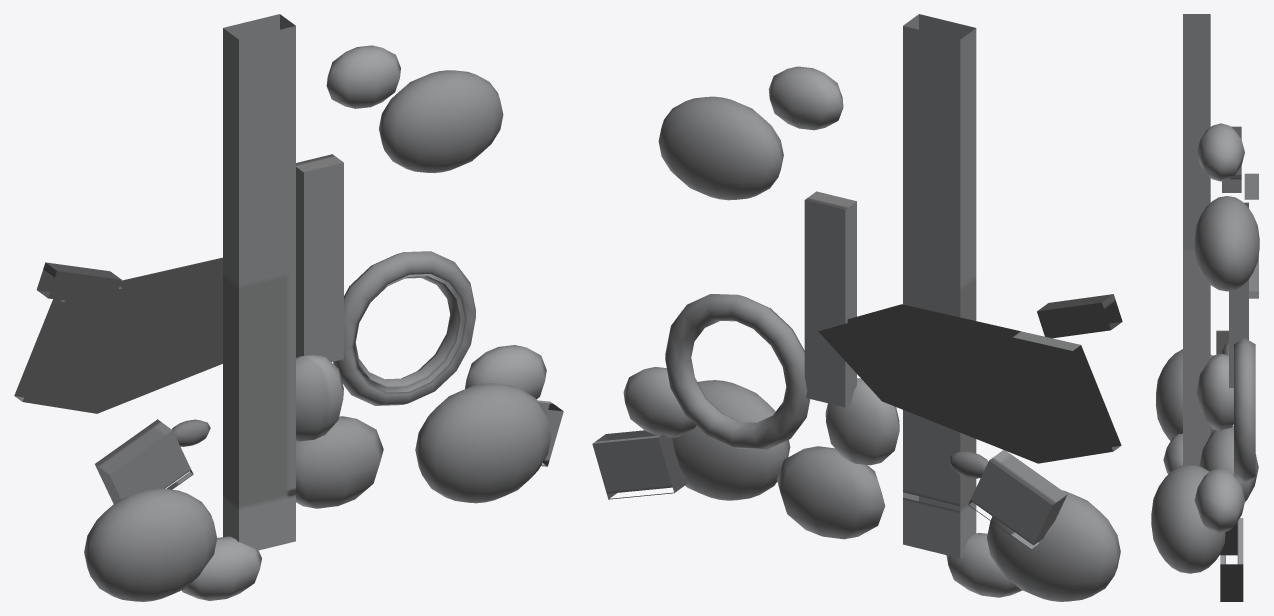
The picture shows the model from 3 angles, left to right: view 1: azimuth 30°, elevation 25°; view 2: azimuth 150°, elevation 25°; view 3: azimuth 270°, elevation 25°; orthographic projection. The views are drawn at different scales.
Bounding box in the file's own units: 0.9898 × 0.9981 × 0.2048.
